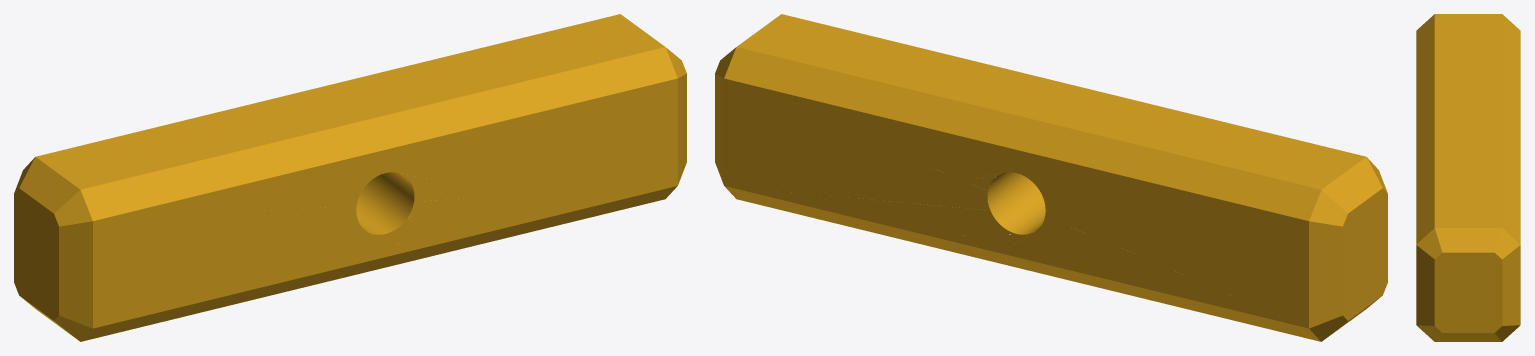
The model's file is takoz-krupp-hm-960-side-buffer-02.glb.
The picture shows the model from 3 angles, left to right: view 1: azimuth 30°, elevation 25°; view 2: azimuth 150°, elevation 25°; view 3: azimuth 270°, elevation 25°; orthographic projection. The views are drawn at different scales.
Visible parts, largest first — view 1: body; view 2: body; view 3: body.
Boxes of the visible parts, x1,y1,x2,y2 form: body: [14, 14, 686, 341]; body: [715, 14, 1387, 341]; body: [1416, 14, 1520, 341].
Size of the model in its own units: 0.205 by 0.0475 by 0.0395.
